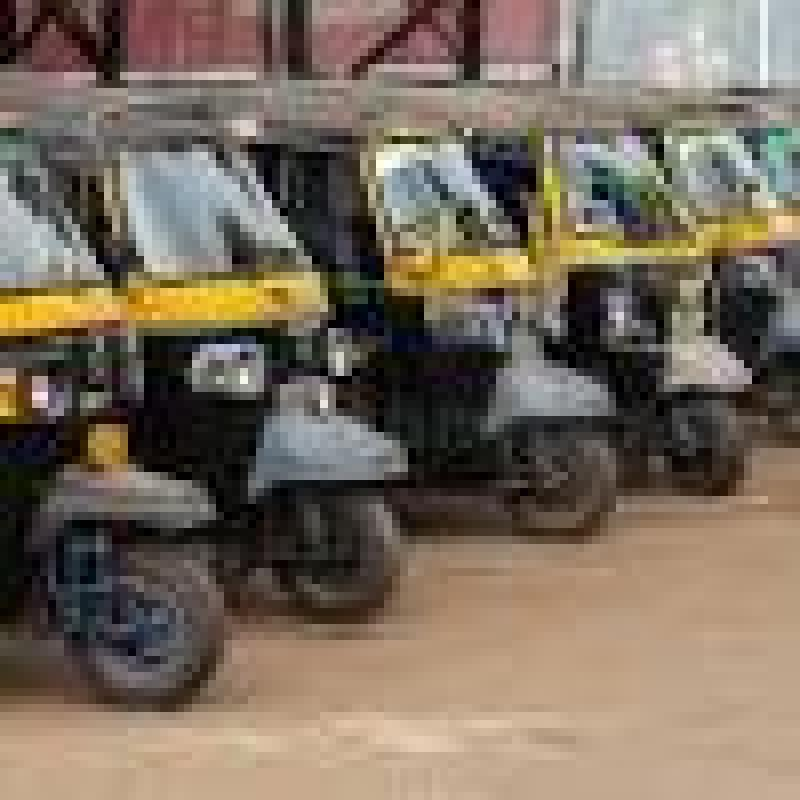auto: (56, 105, 390, 659), (368, 133, 626, 510), (536, 100, 741, 489)
